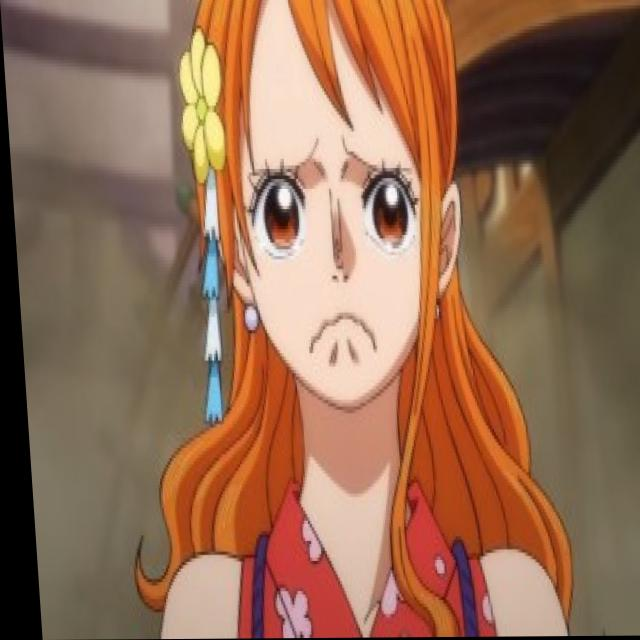Nami: (154, 0, 507, 456)
